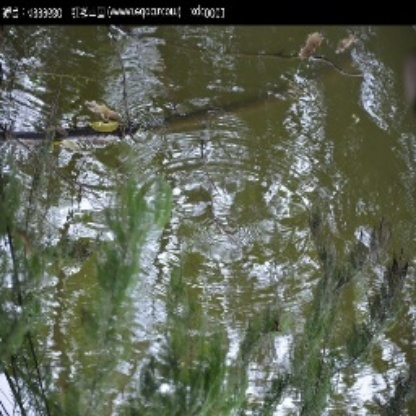branch: (132, 28, 366, 82)
